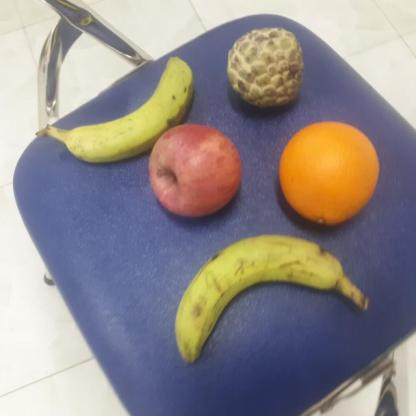annona: (224, 27, 305, 109)
apple: (146, 124, 244, 217)
banana: (170, 234, 346, 366), (61, 51, 197, 165)
orange: (276, 120, 382, 227)
